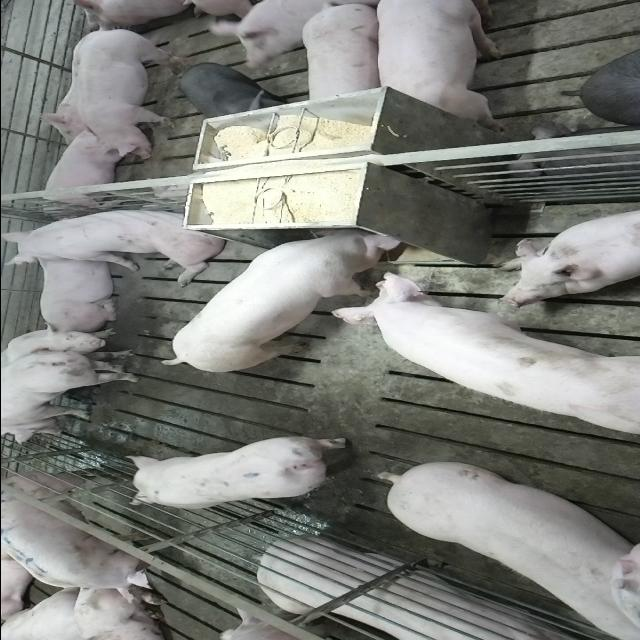Feeding: (320, 270, 634, 441), (162, 219, 412, 369)
Sitting: (5, 203, 226, 283), (1, 325, 144, 445)
Standing: (373, 456, 635, 634), (0, 466, 178, 600), (122, 435, 356, 513), (371, 2, 511, 128), (78, 23, 184, 159), (300, 4, 384, 112), (174, 60, 282, 118)
Sternal_lying: (244, 539, 586, 640), (496, 202, 640, 304), (36, 132, 132, 210), (35, 250, 121, 330)
